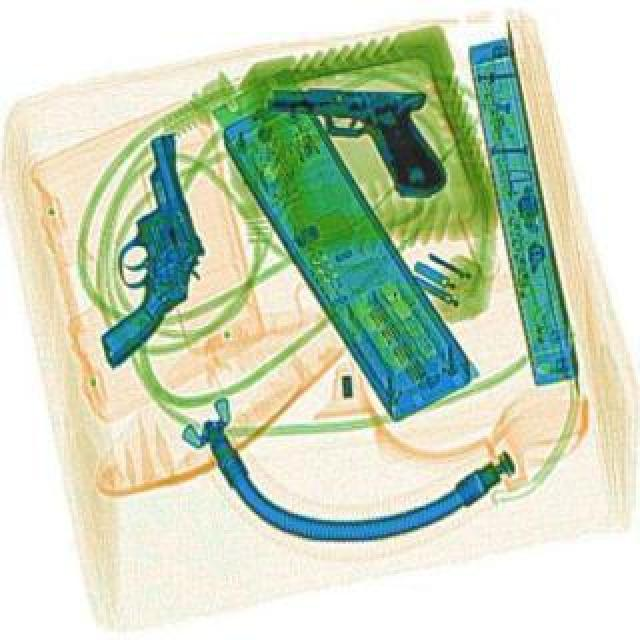gun: (40, 140, 232, 374), (264, 90, 444, 202)
